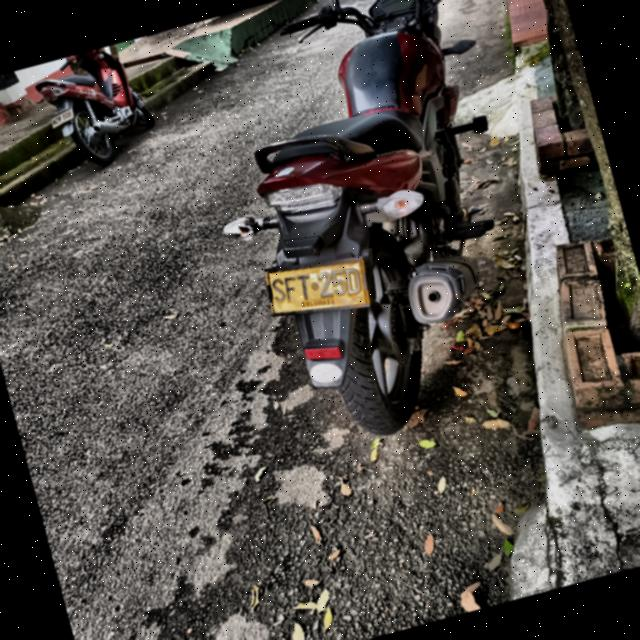plate: (265, 255, 370, 315)
